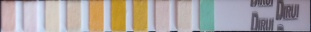color 1: (2, 2, 14, 30)
color 10: (201, 1, 213, 29)
color 2: (24, 2, 35, 30)
color 3: (46, 2, 58, 30)
color 4: (68, 2, 79, 30)
color 5: (90, 2, 102, 31)
color 6: (112, 1, 125, 30)
color 7: (134, 1, 146, 31)
color 8: (156, 2, 168, 30)
color 9: (178, 2, 191, 31)
